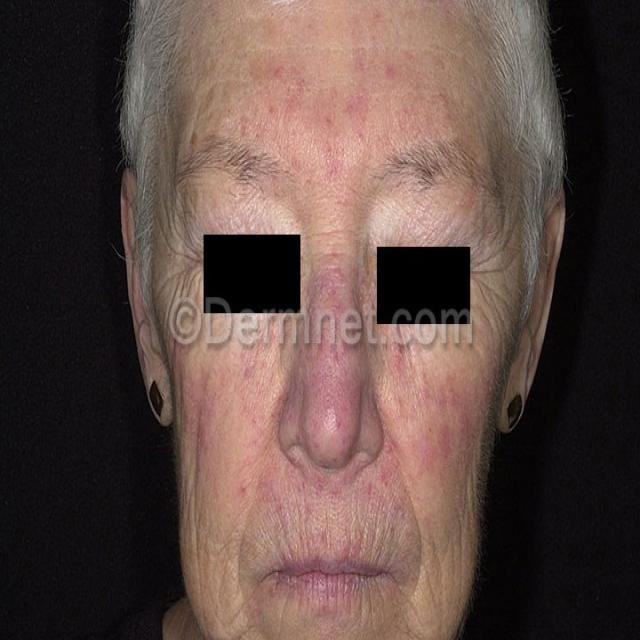skinredness: (185, 336, 462, 543)
